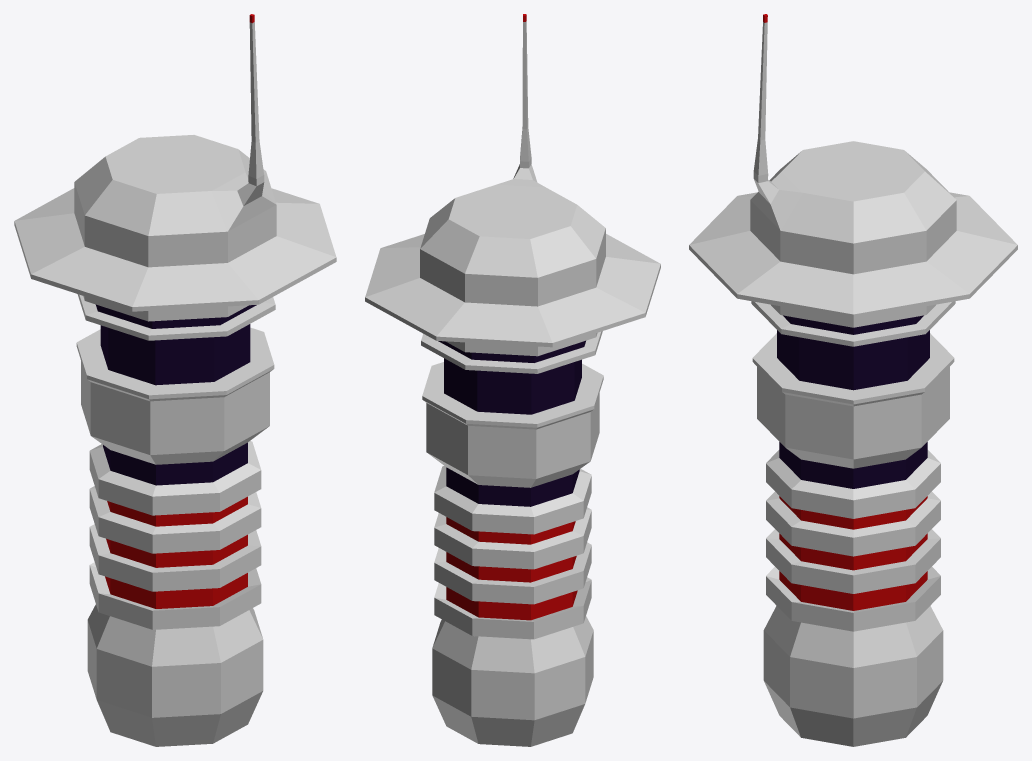
Rendered from beacon2.fbx.
3 renders of one model, left to right at view 1: azimuth 30°, elevation 25°; view 2: azimuth 150°, elevation 25°; view 3: azimuth 270°, elevation 25°, orthographic. The views are drawn at different scales.
Parts seen in each view (by area): view 1: Cylinder; view 2: Cylinder; view 3: Cylinder.
Part boxes in pixels (left/top/right/bottom): Cylinder: left=14, top=14, right=336, bottom=746; Cylinder: left=365, top=14, right=660, bottom=746; Cylinder: left=689, top=14, right=1017, bottom=746.
Bounding box in the file's own units: 4.44 × 4.44 × 10.89.
